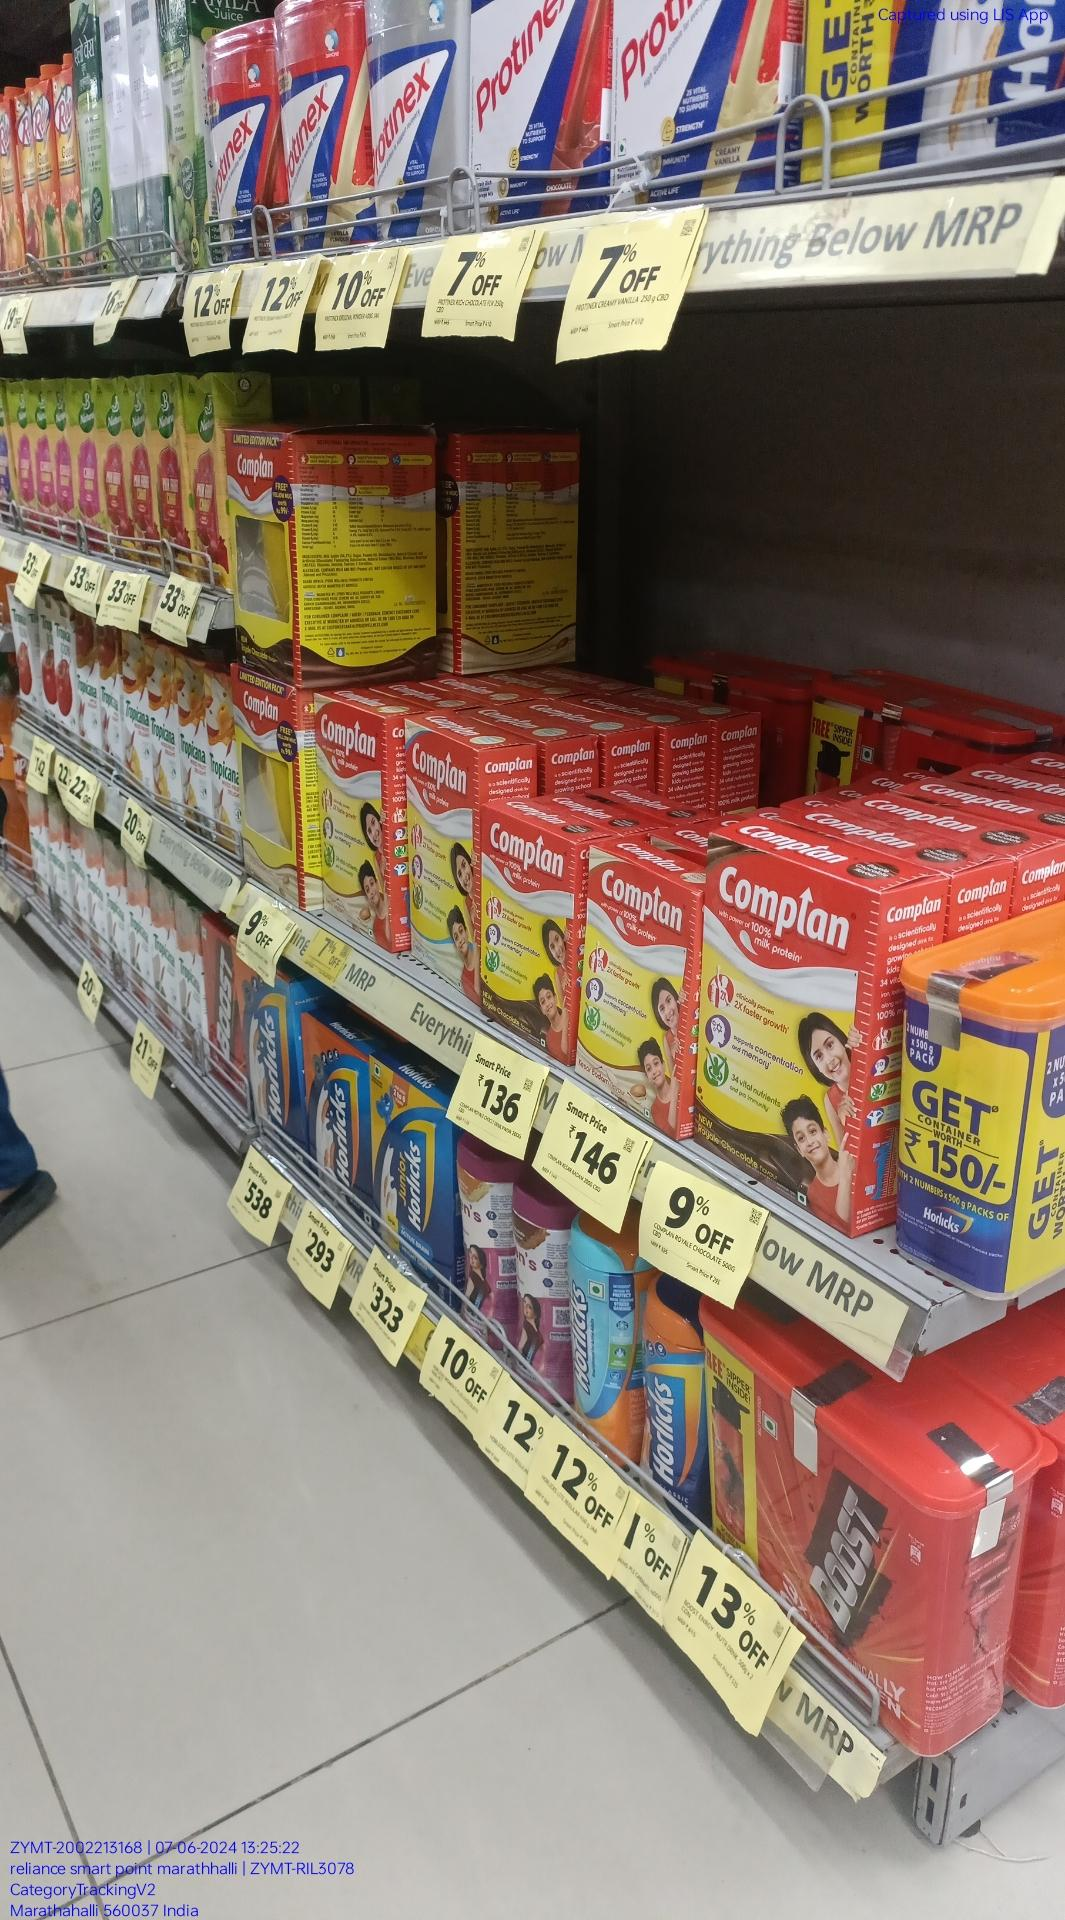HORLICKS_LITE_REGULAR_MALT_500_GM_JAR: (574, 1231, 636, 1450)
PROTINEX_CHOCOLATE_400_G_JAR: (218, 21, 277, 244)
PROTINEX_ORIGINAL_400_G_JAR: (376, 0, 471, 220)
PROTINEX_VANILLA_400_G_JAR: (292, 0, 366, 230)
